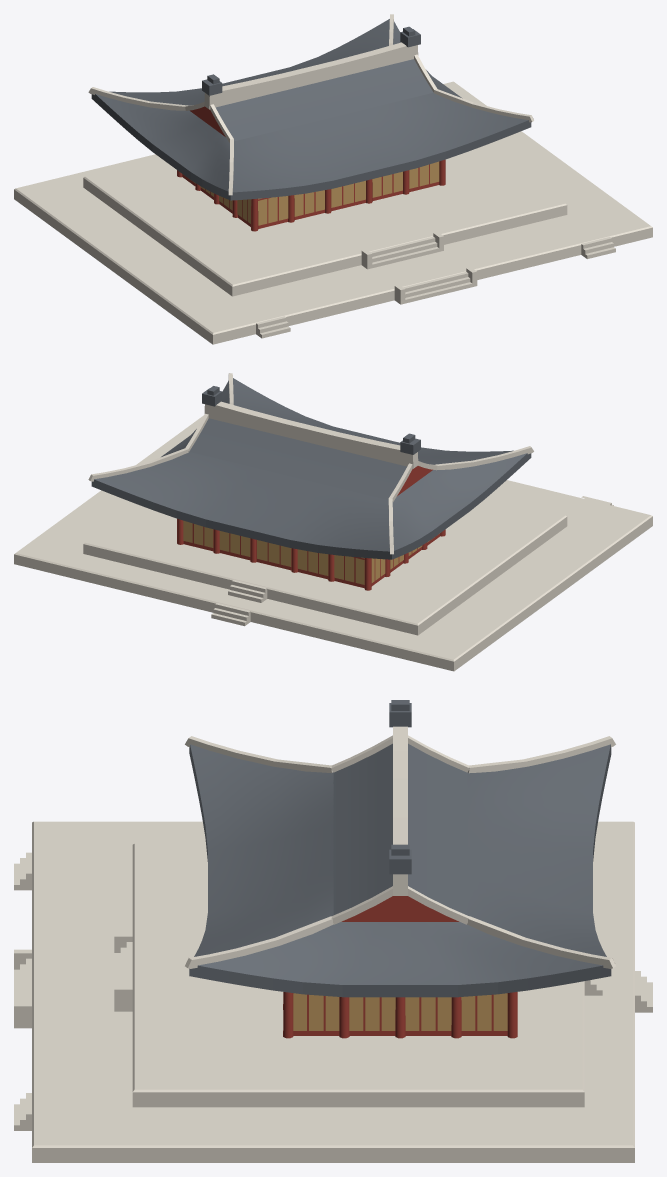
Rendered from seoul-junghwajeon.glb.
The picture shows the model from 3 angles, top to bottom: view 1: azimuth 30°, elevation 25°; view 2: azimuth 150°, elevation 25°; view 3: azimuth 270°, elevation 25°; orthographic projection. The views are drawn at different scales.
Visible parts, largest first — view 1: Junghwajeon; view 2: Junghwajeon; view 3: Junghwajeon.
Boxes of the visible parts, bbox=[...] form: Junghwajeon: bbox=[14, 14, 652, 344]; Junghwajeon: bbox=[14, 373, 652, 671]; Junghwajeon: bbox=[14, 700, 652, 1162].
Size of the model in its own units: 46 by 14.85 by 38.16.
